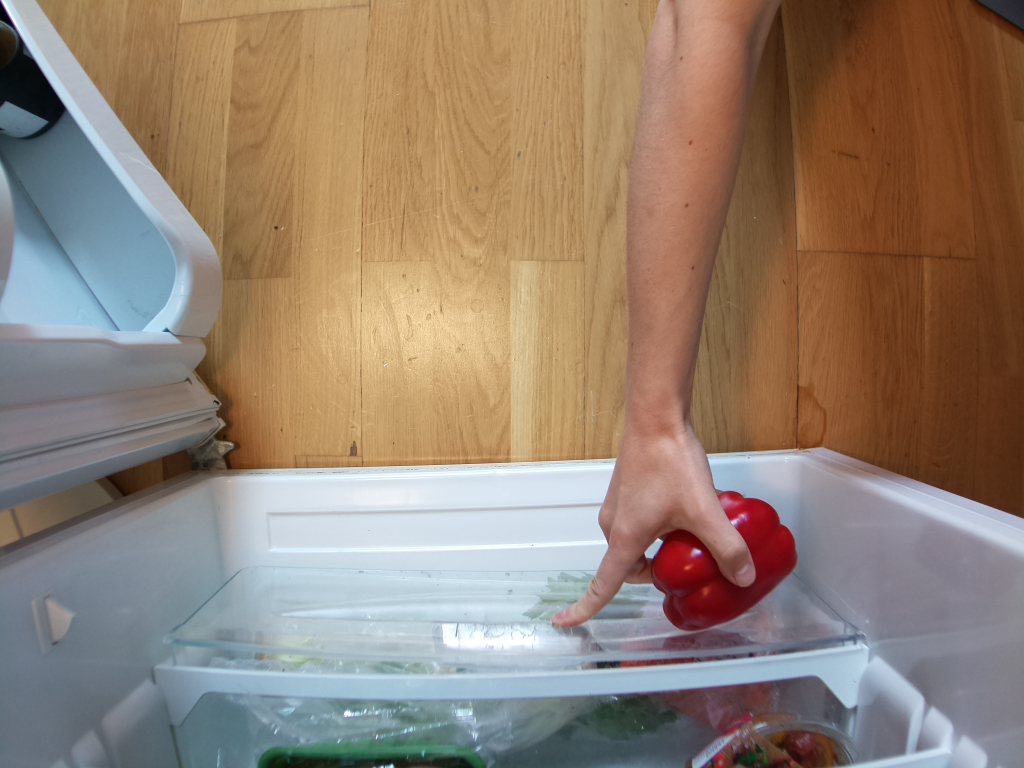pepper: (654, 487, 798, 629)
